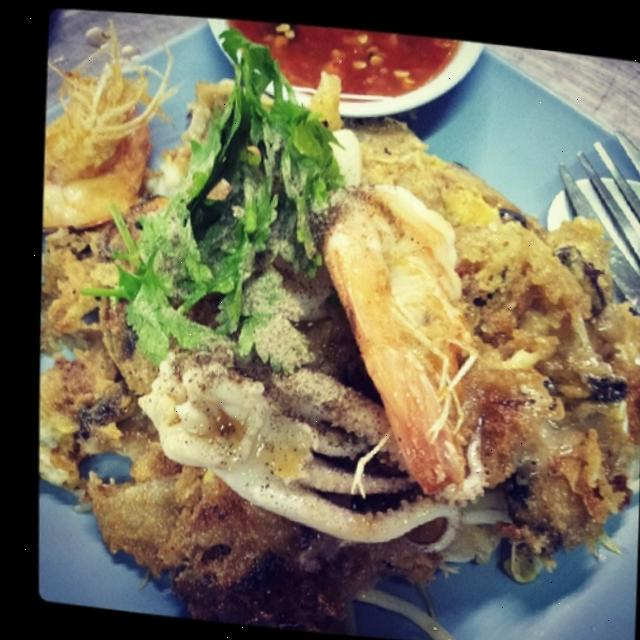炸货点心: (19, 12, 640, 634)
蛋糕甜品: (19, 12, 640, 634)
